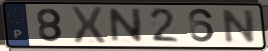2: (149, 6, 181, 46)
6: (187, 7, 217, 46)
8: (35, 7, 65, 44)
N: (107, 8, 145, 45), (221, 8, 257, 45)
X: (68, 5, 108, 46)
